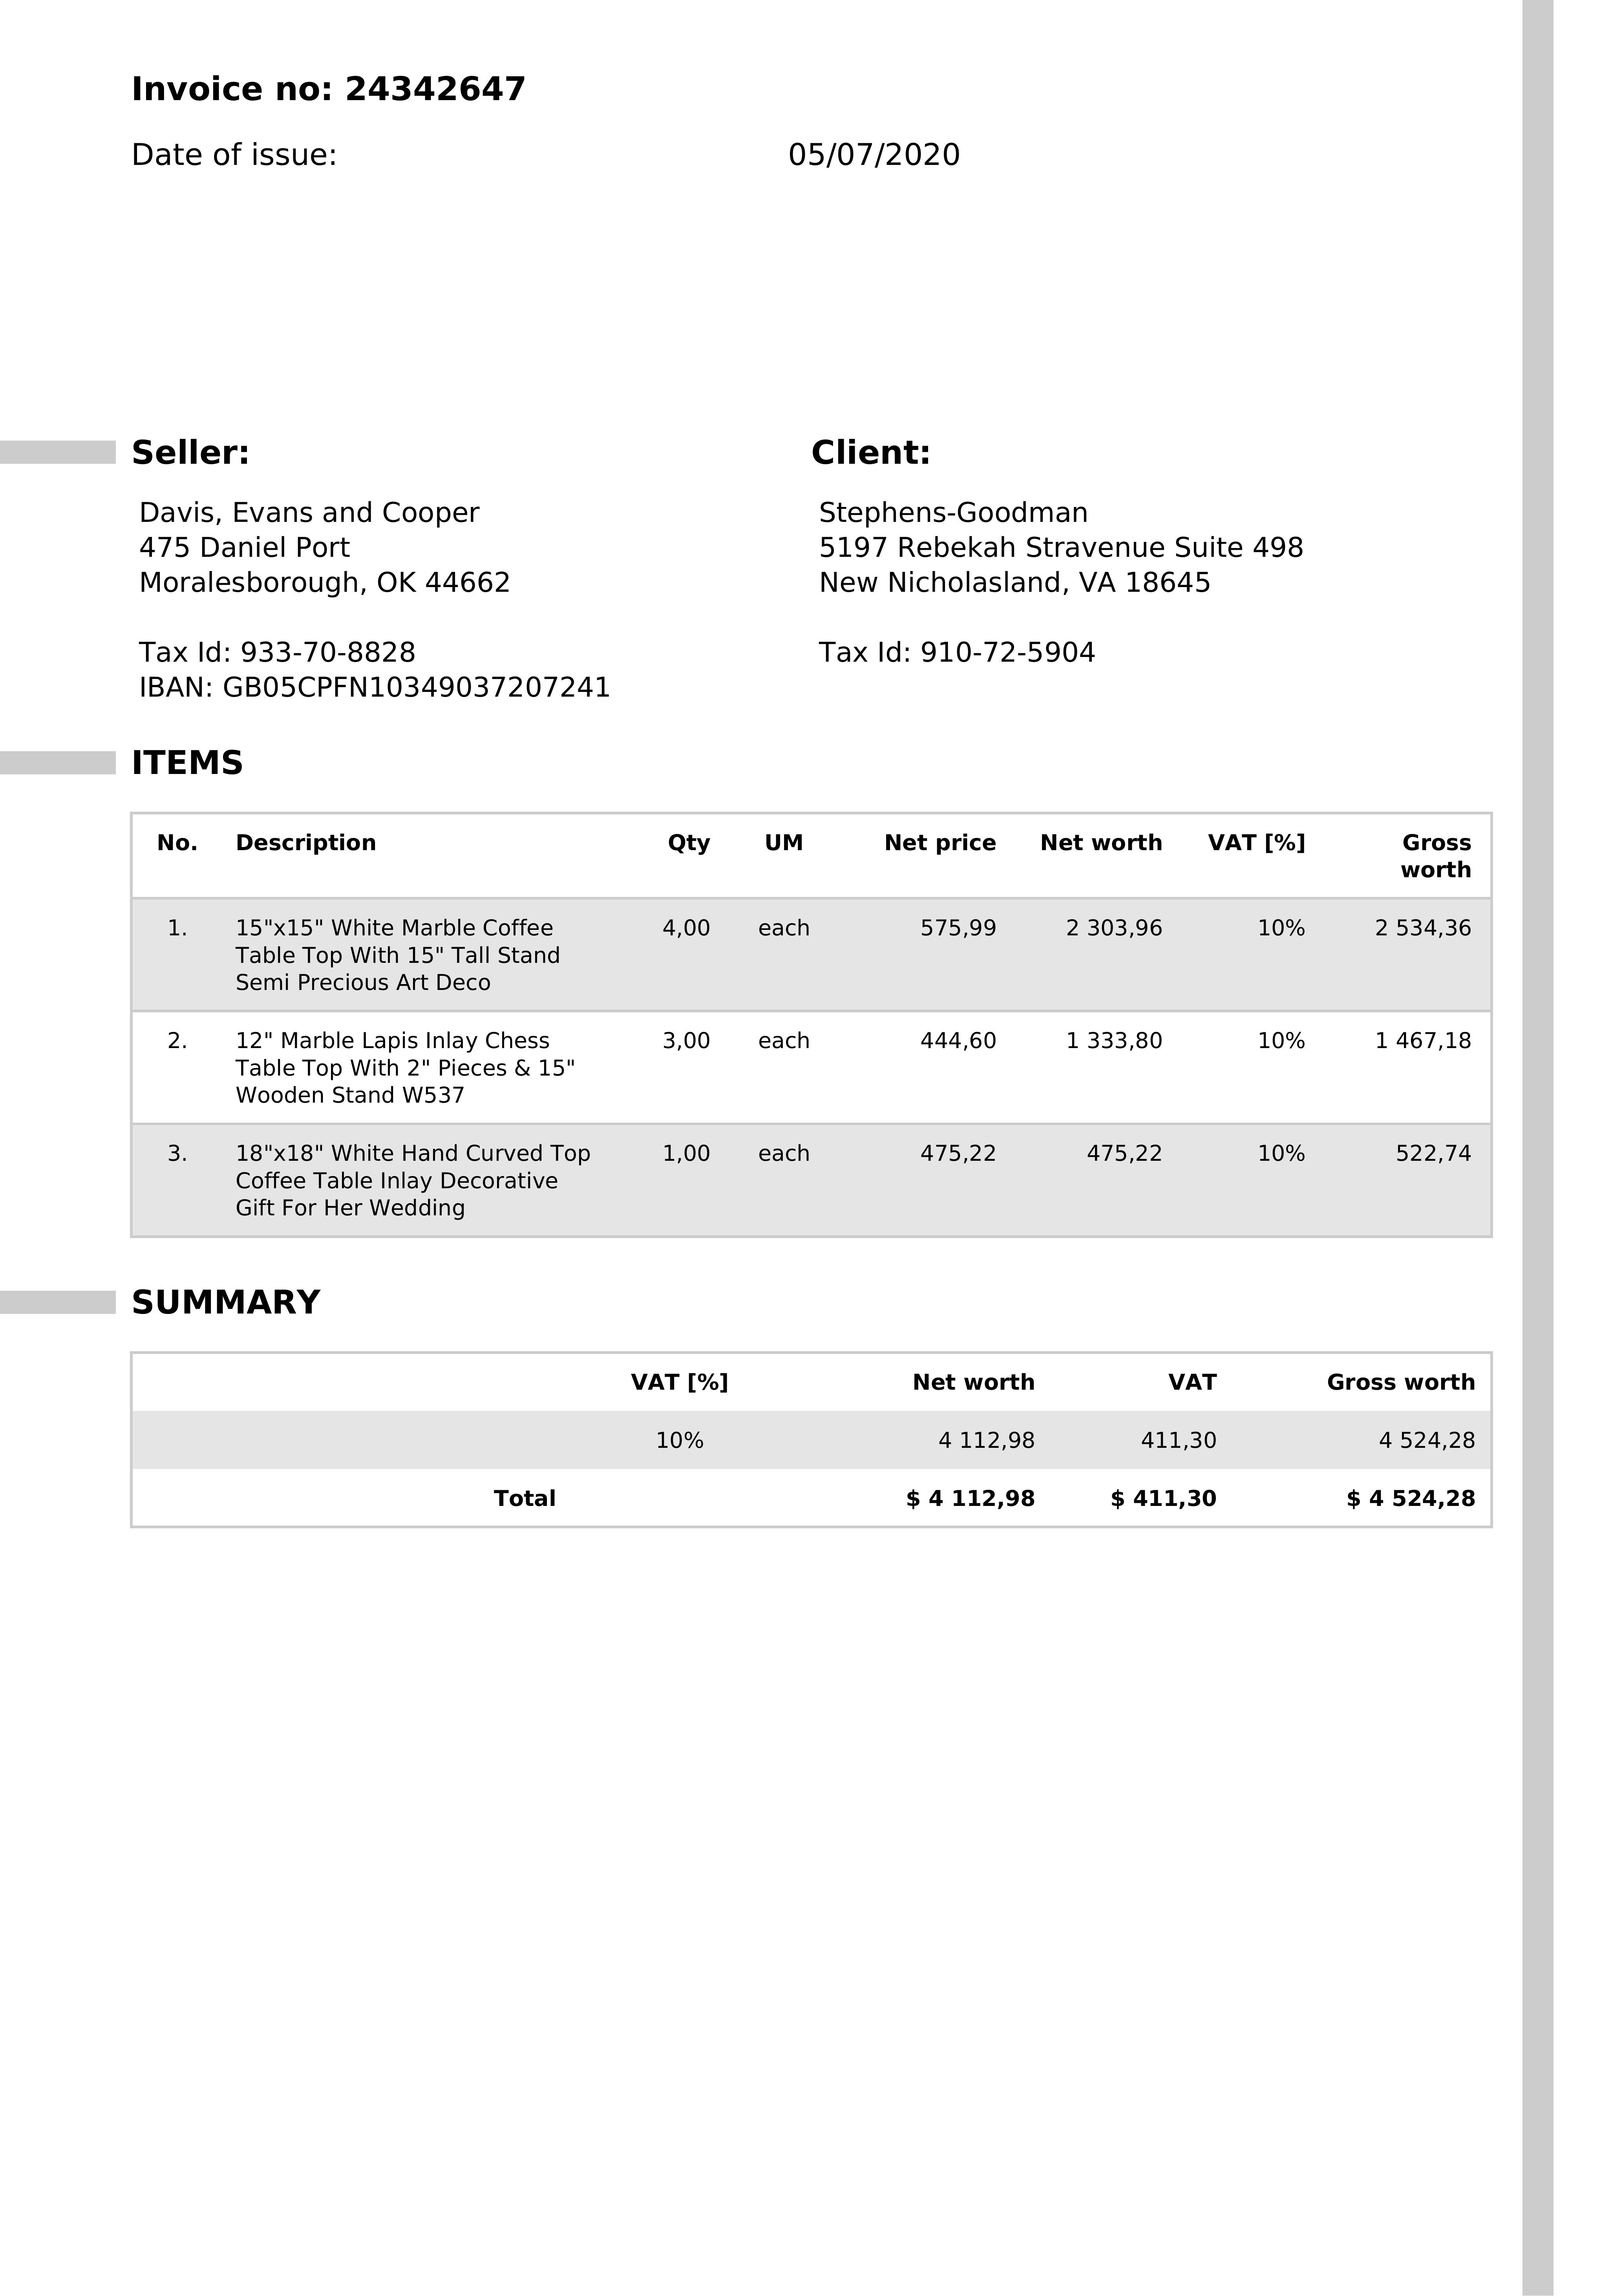column: (214, 815, 608, 1233), (1029, 812, 1175, 1237), (871, 815, 1015, 1237), (1196, 817, 1333, 1238), (1363, 815, 1486, 1238), (750, 815, 847, 1242), (643, 812, 732, 1237), (1314, 1349, 1486, 1528), (891, 1351, 1047, 1527), (1101, 1351, 1258, 1523), (613, 1356, 750, 1528), (465, 1354, 571, 1532)
